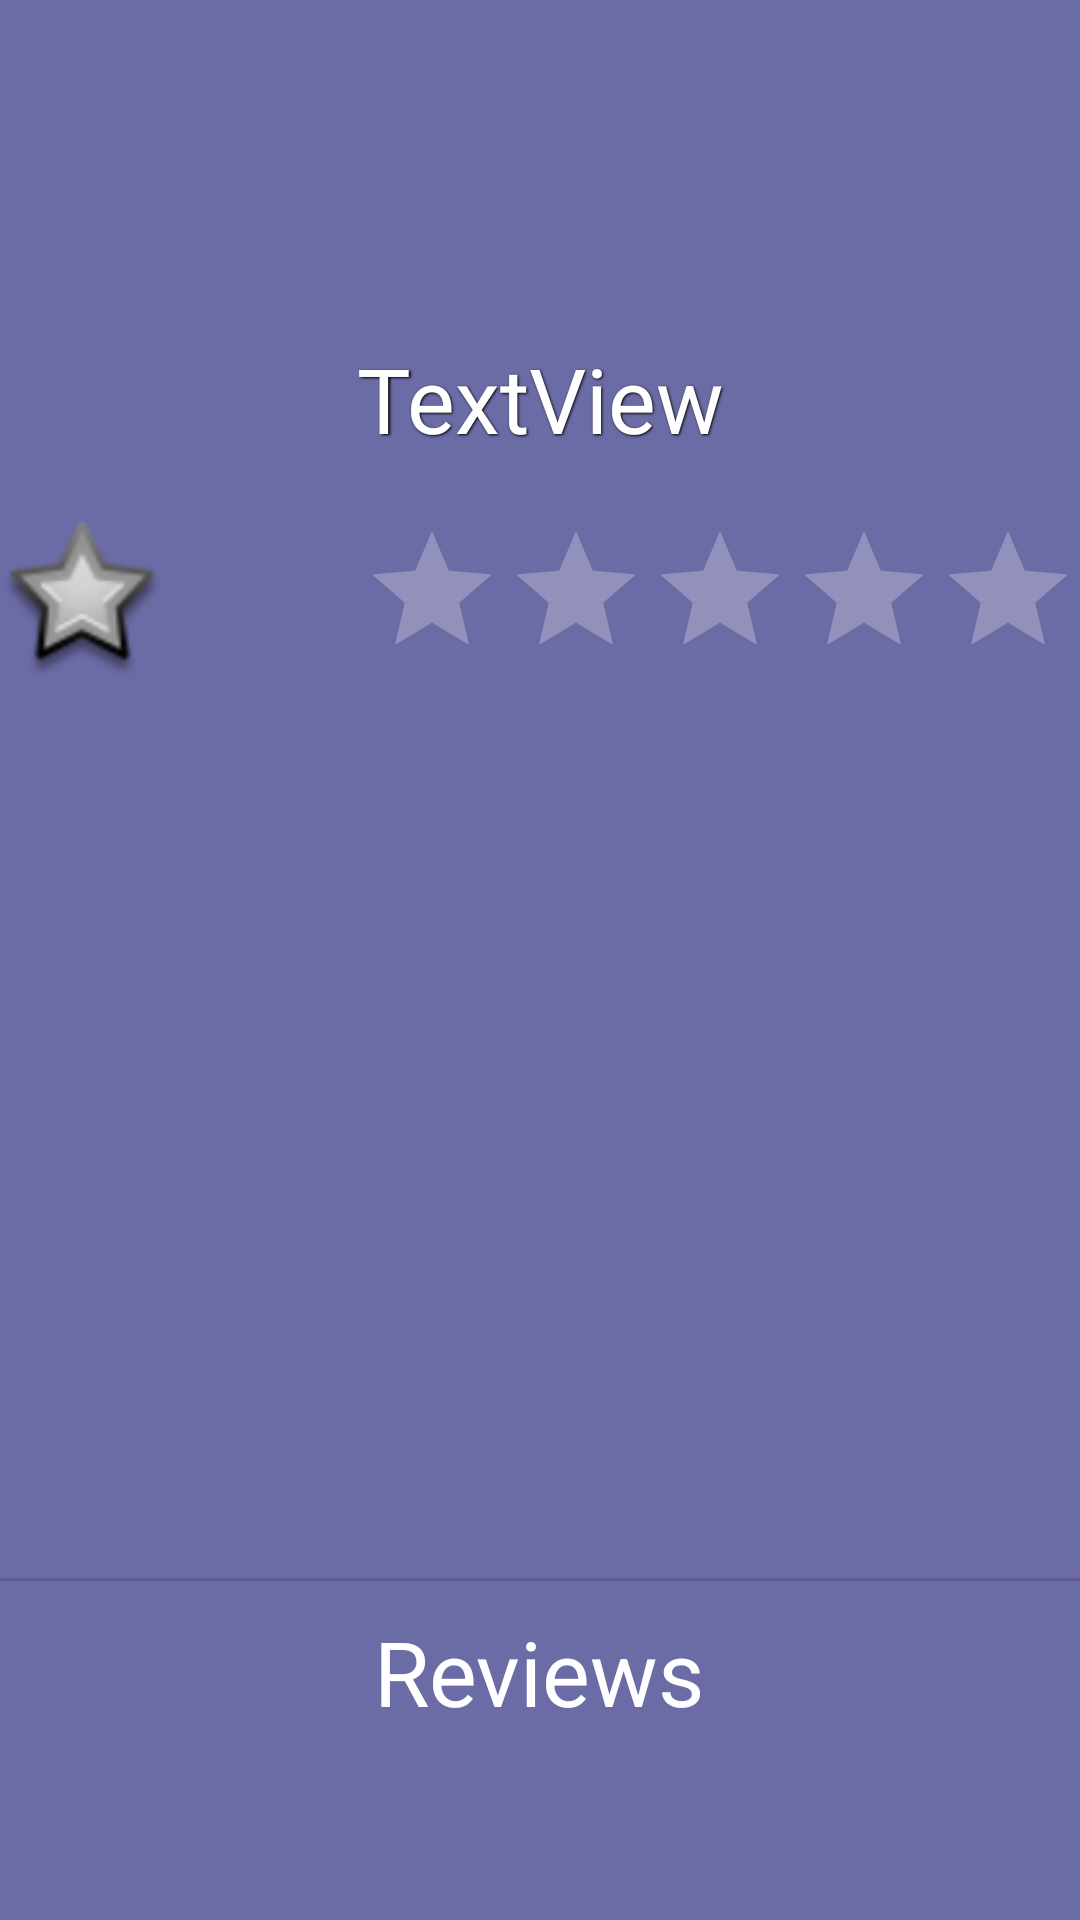

Screen size 1080 x 1920. Icon name, then its box in pixels as (x1, y1, x2, y2):
toggle favorite: (10, 523, 155, 669)
